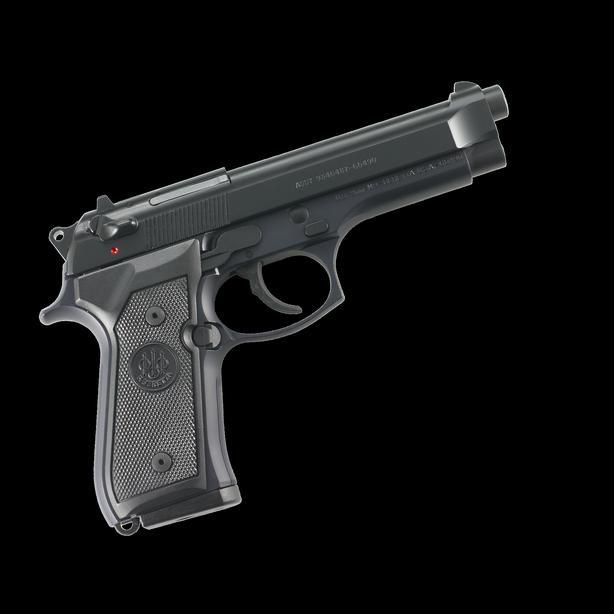Firearm: (37, 65, 529, 539)
